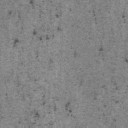oxide scale of temperature system: (8, 0, 72, 64), (18, 94, 76, 126), (94, 82, 119, 122), (92, 10, 98, 25), (96, 45, 103, 52), (74, 50, 77, 59), (122, 14, 126, 19), (125, 58, 128, 64), (34, 78, 37, 82)
